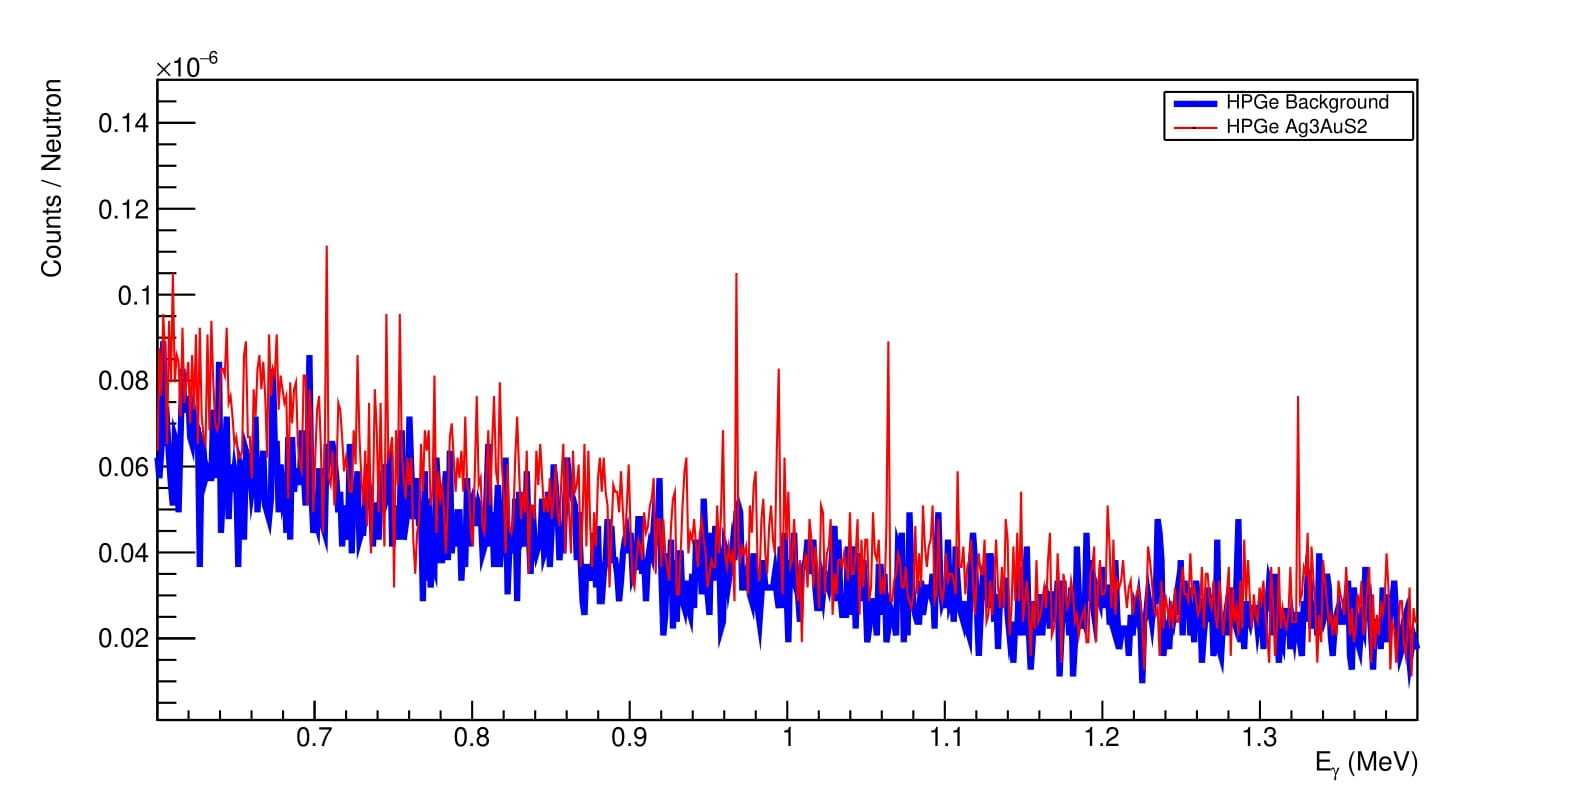other: (169, 207, 678, 640), (802, 477, 1404, 694)
